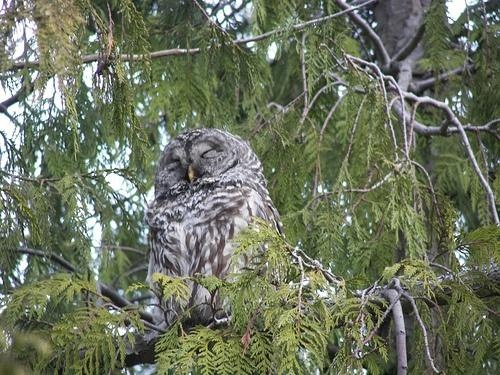bird: (146, 128, 286, 334)
